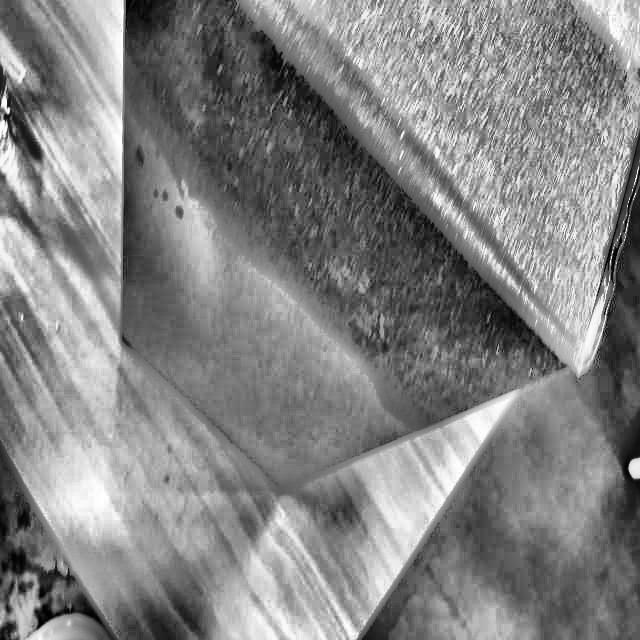box: (115, 0, 639, 507)
wet: (126, 0, 639, 413)
